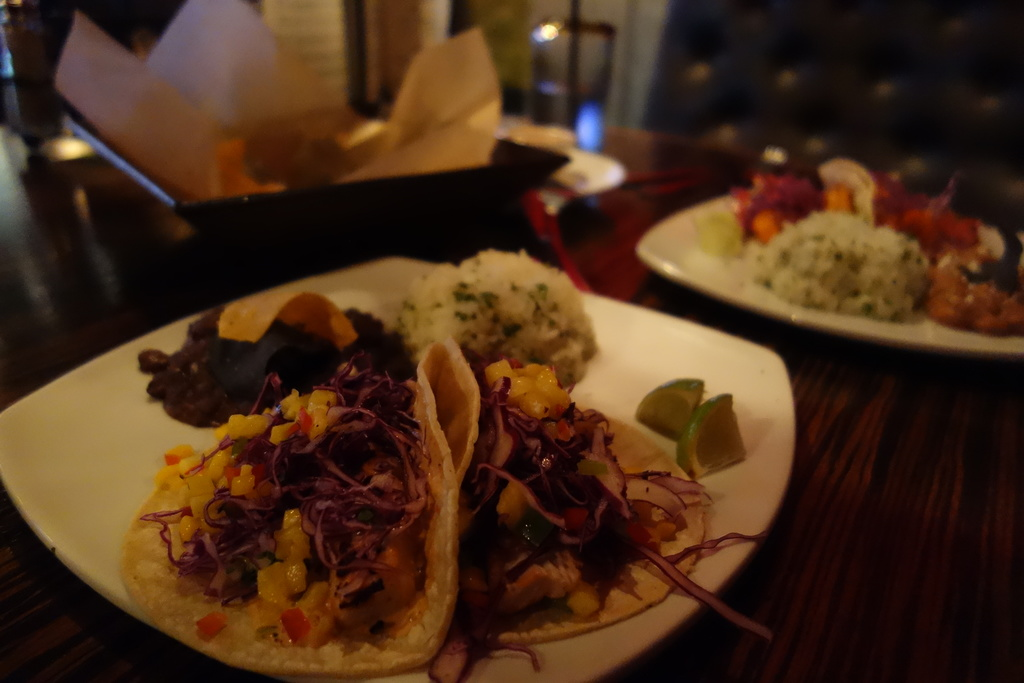taco: (126, 277, 515, 683), (445, 365, 708, 629)
